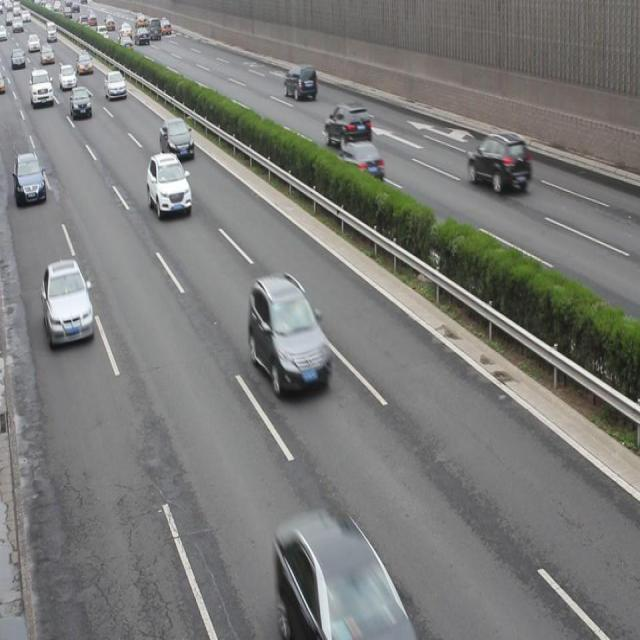car: (275, 515, 414, 640), (247, 273, 330, 398), (41, 258, 94, 348), (466, 130, 529, 195), (147, 152, 191, 219), (322, 100, 370, 150), (334, 140, 384, 186), (13, 150, 46, 208), (159, 117, 195, 162), (282, 63, 316, 102), (71, 86, 93, 121)
